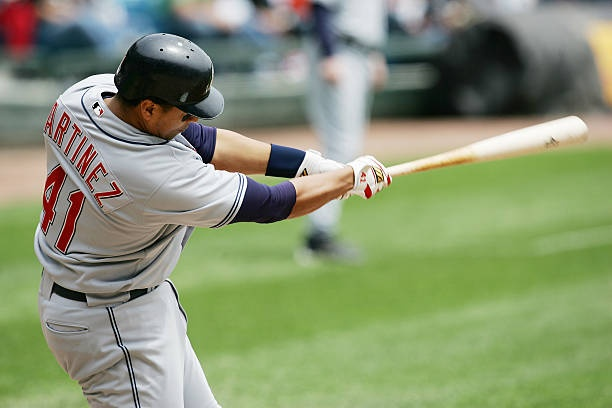bita: (380, 117, 586, 182)
